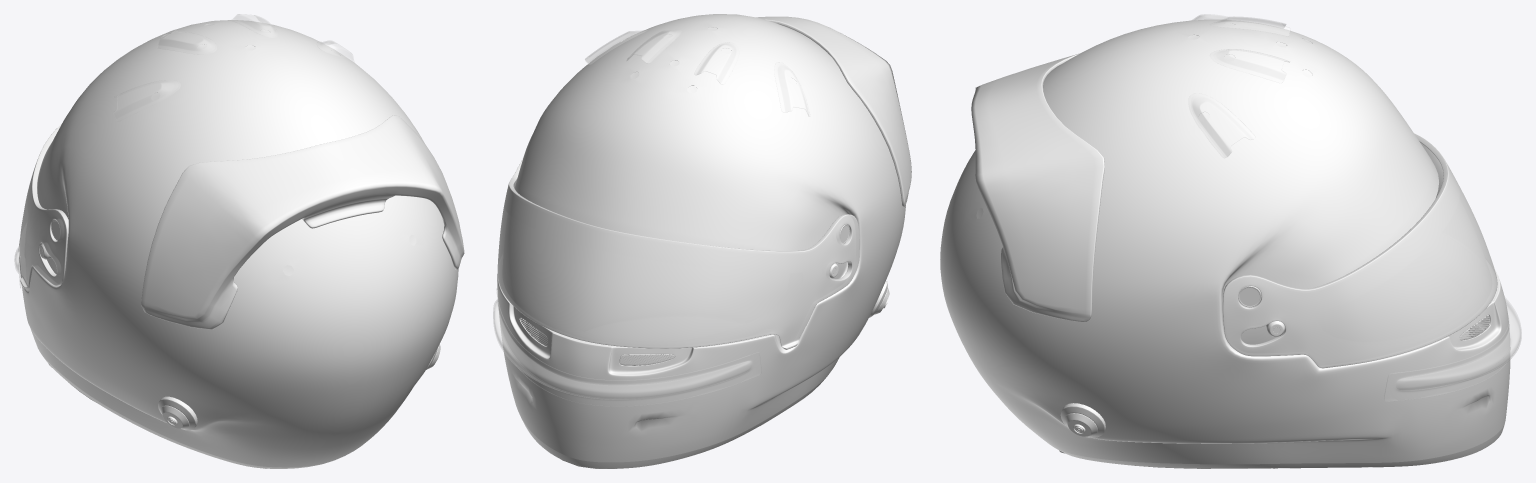
The model's file is helmet.glb.
3 renders of one model, left to right at view 1: azimuth 30°, elevation 25°; view 2: azimuth 150°, elevation 25°; view 3: azimuth 270°, elevation 25°, orthographic. The views are drawn at different scales.
Visible parts, largest first — view 1: Helmet_main, Helmet_Component, Helmet_glass; view 2: Helmet_main, Helmet_glass, Helmet_Component; view 3: Helmet_main, Helmet_glass, Helmet_Component.
Part boxes in pixels (box(x1,y1,x2,y2)): Helmet_main: box(18, 20, 458, 468); Helmet_Component: box(39, 115, 464, 430); Helmet_glass: box(14, 14, 354, 288); Helmet_main: box(497, 14, 905, 468); Helmet_glass: box(493, 30, 859, 406); Helmet_Component: box(520, 16, 911, 365); Helmet_main: box(940, 19, 1510, 468); Helmet_glass: box(1189, 14, 1521, 401); Helmet_Component: box(971, 53, 1490, 437).
Bounding box in the file's own units: 2.11 × 2.16 × 2.87.
4 materials, 2 textured.
